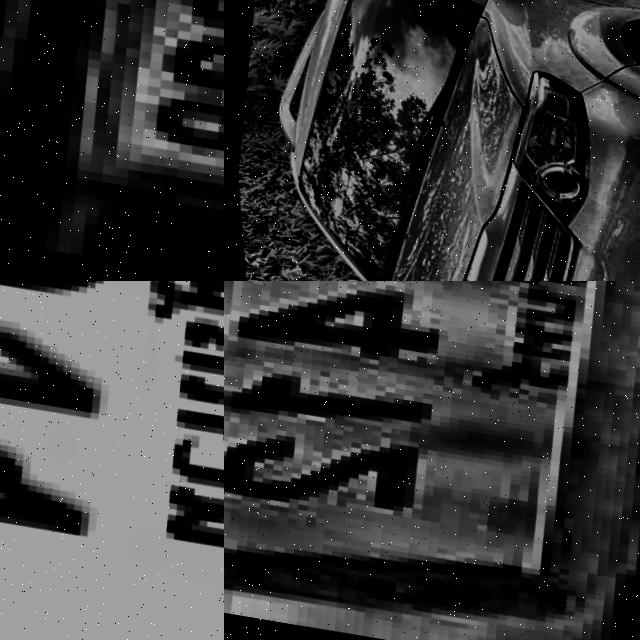license-plate: (224, 281, 640, 640), (0, 281, 224, 640), (0, 0, 224, 280)
